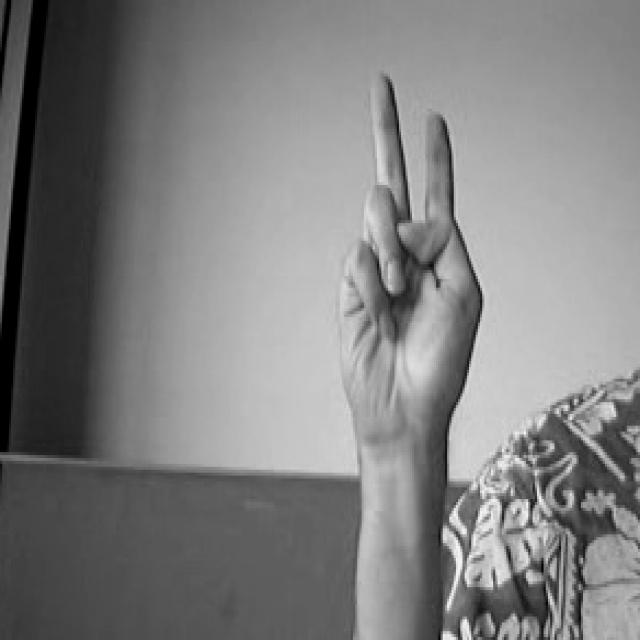V: (322, 54, 490, 438)
